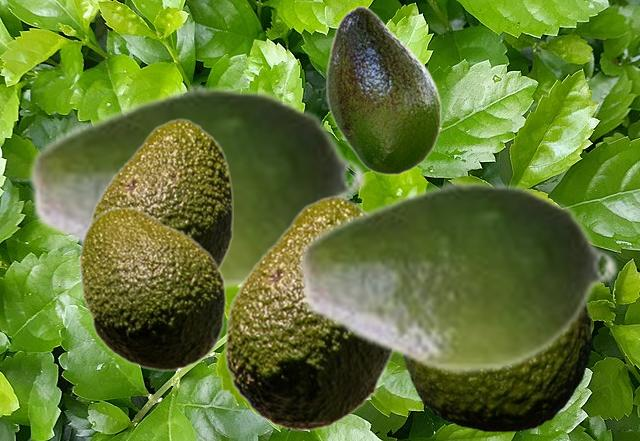avocado: (25, 81, 368, 293), (295, 176, 619, 376), (224, 195, 395, 431), (78, 206, 226, 371), (401, 305, 590, 431), (88, 118, 232, 268), (326, 5, 441, 174)
